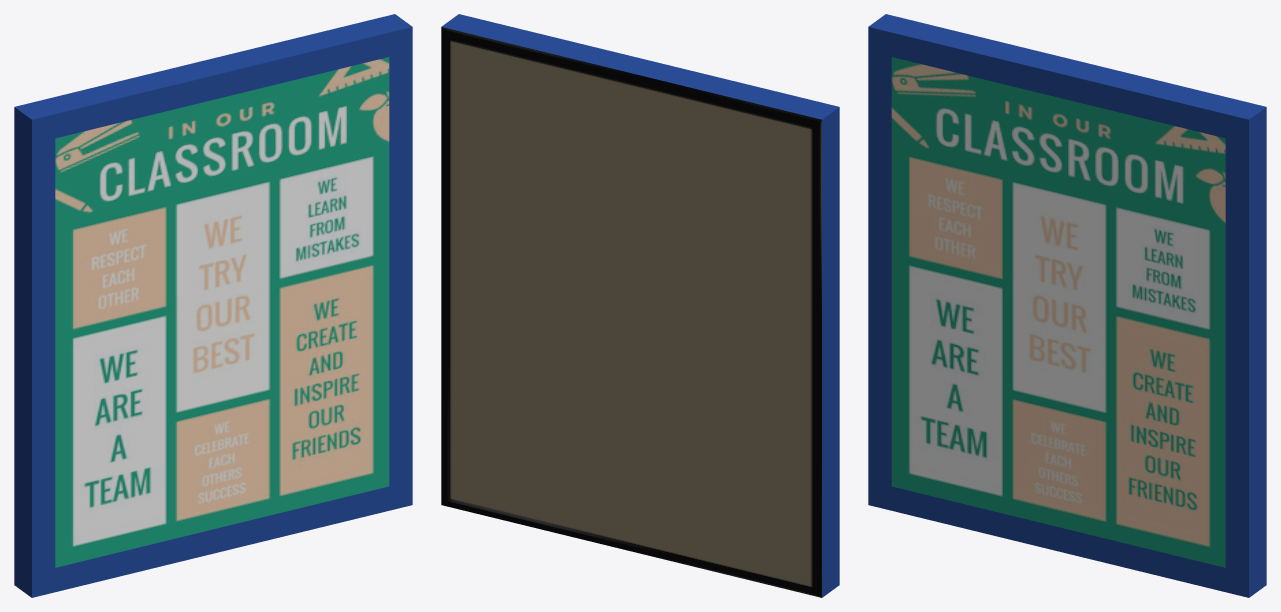
The model's file is poster9.FBX.
3 views of the same model, side by side, from view 1: azimuth 30°, elevation 25°; view 2: azimuth 150°, elevation 25°; view 3: azimuth 330°, elevation 25° (orthographic).
Parts seen in each view (by area): view 1: poster9; view 2: poster9; view 3: poster9.
Boxes of the visible parts, x1=… form: poster9: x1=14, y1=14, x2=412, y2=597; poster9: x1=441, y1=14, x2=839, y2=597; poster9: x1=868, y1=14, x2=1266, y2=597.
Bounding box in the file's own units: 5 × 6 × 0.4.
